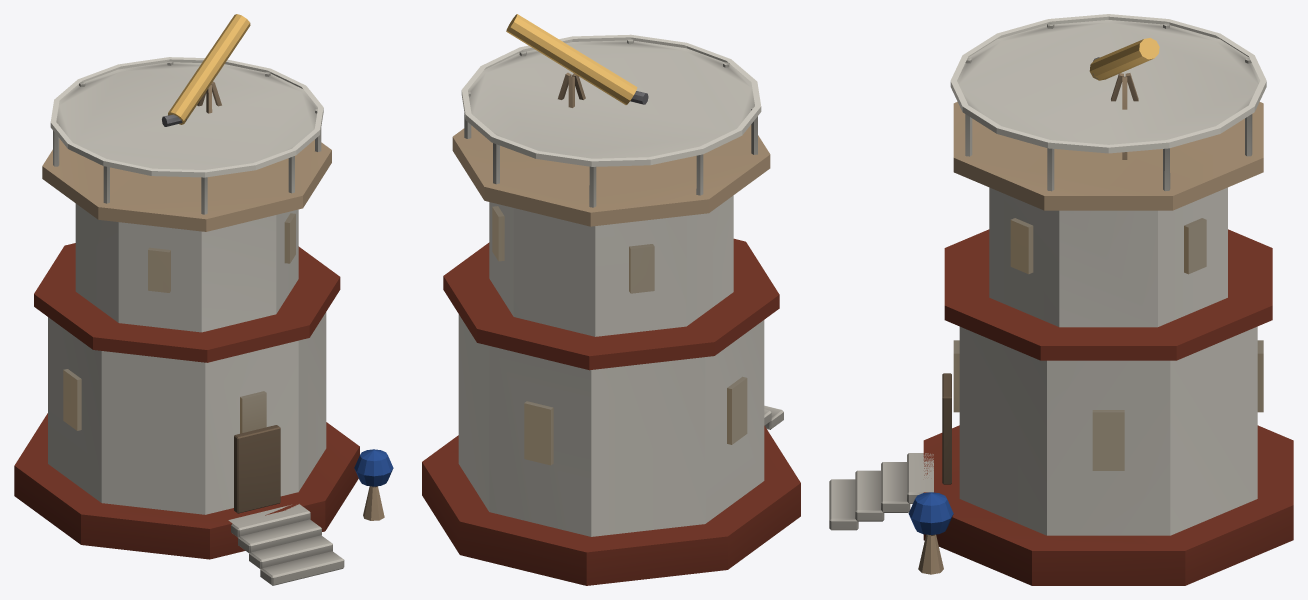
File: bld_observatory_e2.glb
3 renders of one model, left to right at view 1: azimuth 30°, elevation 25°; view 2: azimuth 150°, elevation 25°; view 3: azimuth 270°, elevation 25°, orthographic. The views are drawn at different scales.
Parts seen in each view (by area): view 1: observatory; view 2: observatory; view 3: observatory.
Boxes of the visible parts, x1=… form: observatory: x1=14, y1=14, x2=393, y2=585; observatory: x1=422, y1=14, x2=800, y2=585; observatory: x1=829, y1=14, x2=1293, y2=585.
Bounding box in the file's own units: 1.15 × 1.75 × 1.44.
